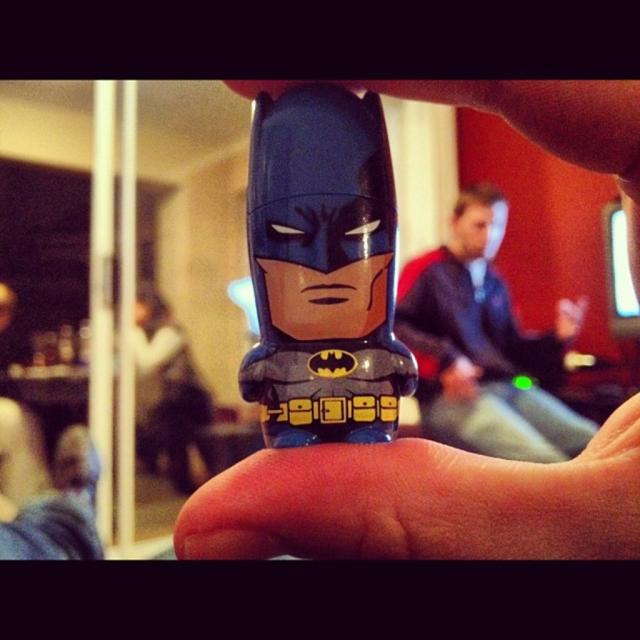Toy: (238, 84, 418, 448)
